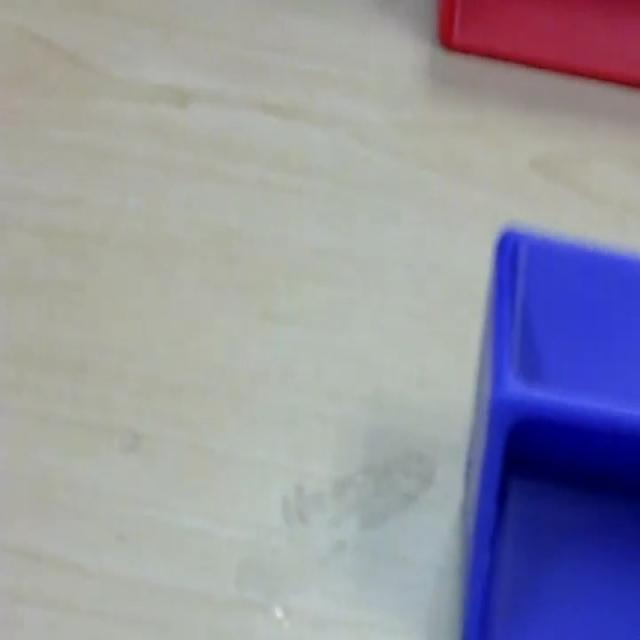blue_block: (458, 220, 638, 636)
red_block: (436, 0, 638, 88)
